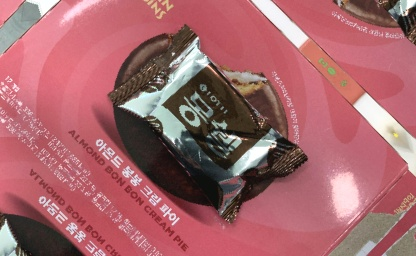mon: (100, 15, 320, 235)
